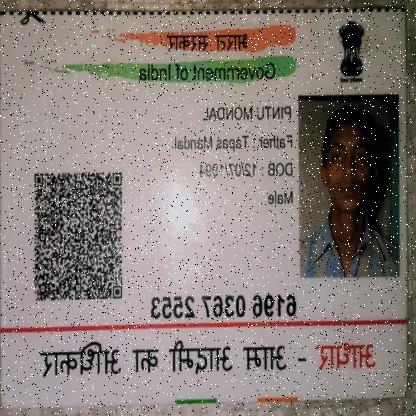aadhaar_card: (1, 1, 408, 415)
